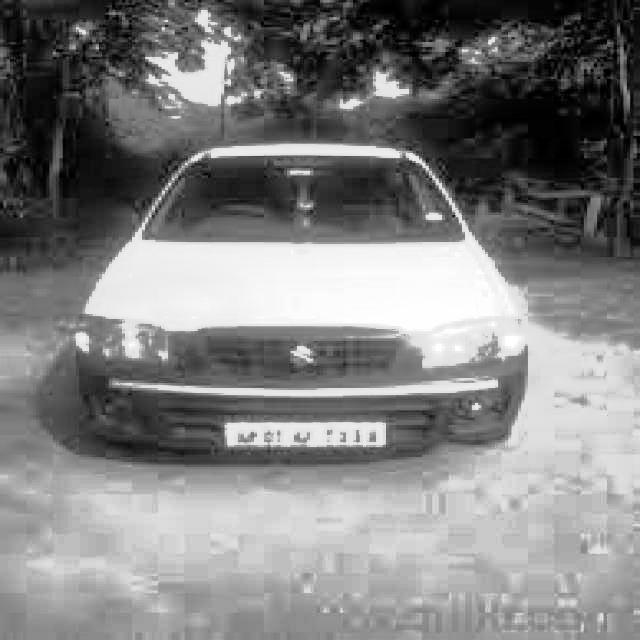Car: (83, 138, 531, 455)
